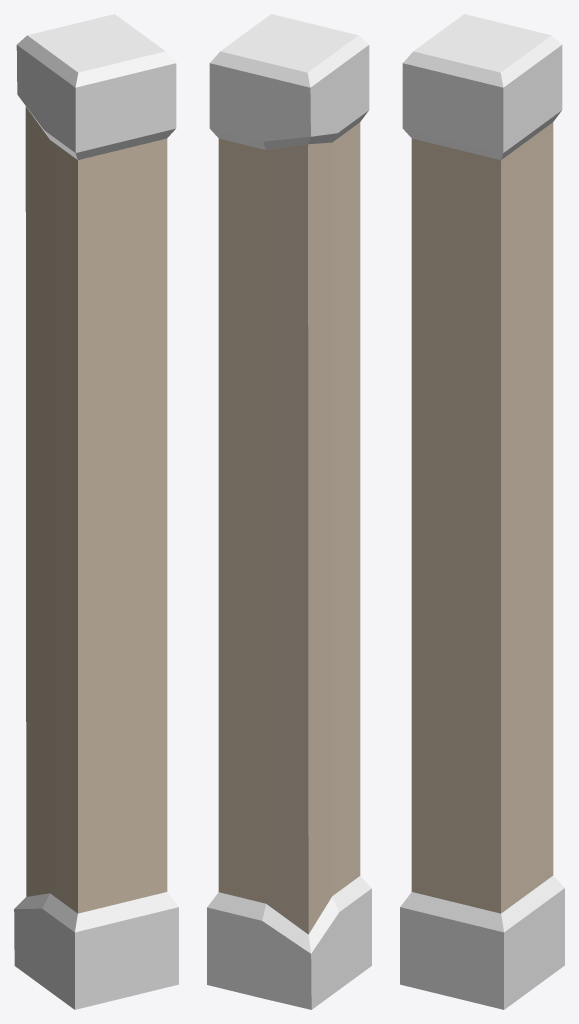
File: g_o_KitchenWallCorner270.fbx
3 views of the same model, side by side, from view 1: azimuth 30°, elevation 25°; view 2: azimuth 150°, elevation 25°; view 3: azimuth 330°, elevation 25° (orthographic).
Parts seen in each view (by area): view 1: g_o_KitchenWallCorner270; view 2: g_o_KitchenWallCorner270; view 3: g_o_KitchenWallCorner270.
Boxes of the visible parts, <box> form: g_o_KitchenWallCorner270: <box>14,14,178,1009</box>; g_o_KitchenWallCorner270: <box>207,14,371,1009</box>; g_o_KitchenWallCorner270: <box>400,14,564,1009</box>.
Size of the model in its own units: 0.2198 by 1.88 by 0.2223.
